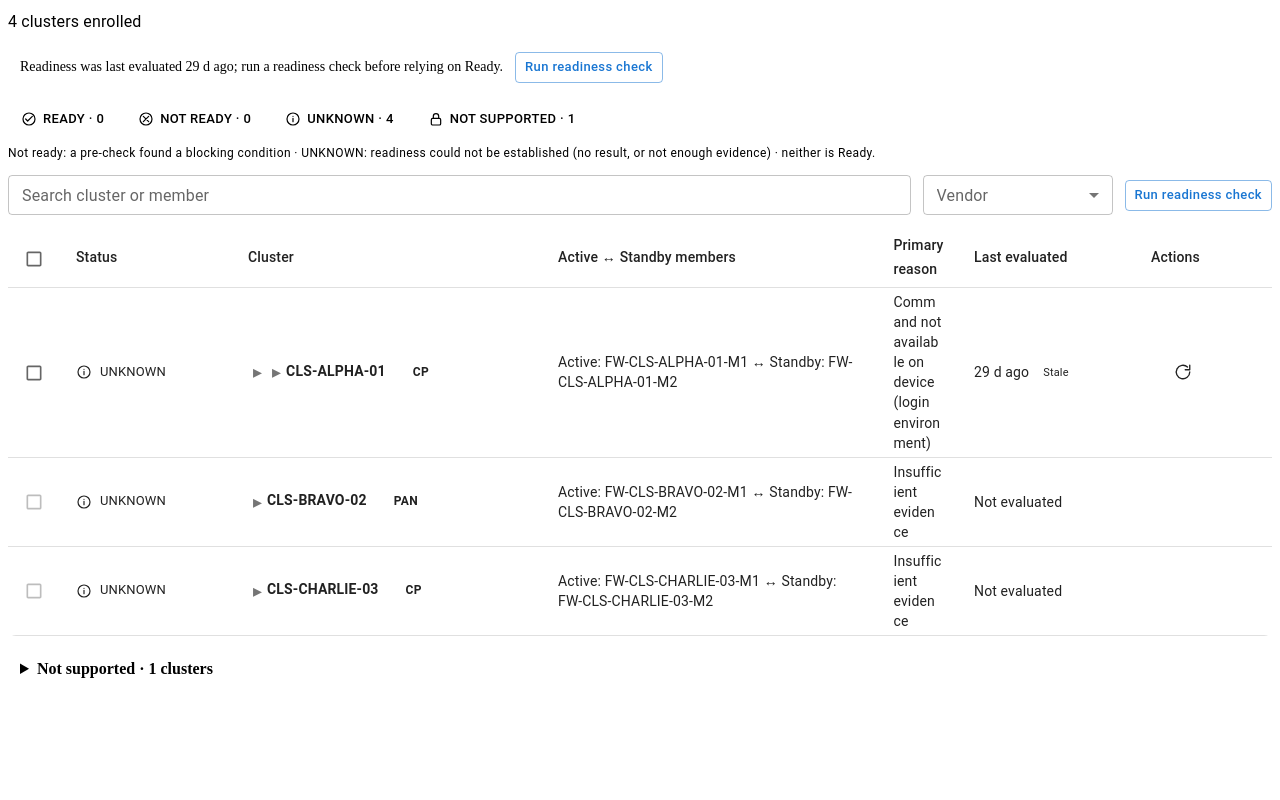
Test: shows the stored login-environment stop reason for unknown base and virtual units
expect the text "Command not available on device (login environment)" is shown: met, box 893,294 -> 942,450
Click the button named "Virtual systems in CLS-ALPHA-01".
click(276, 372)  # box 267,356 -> 286,388
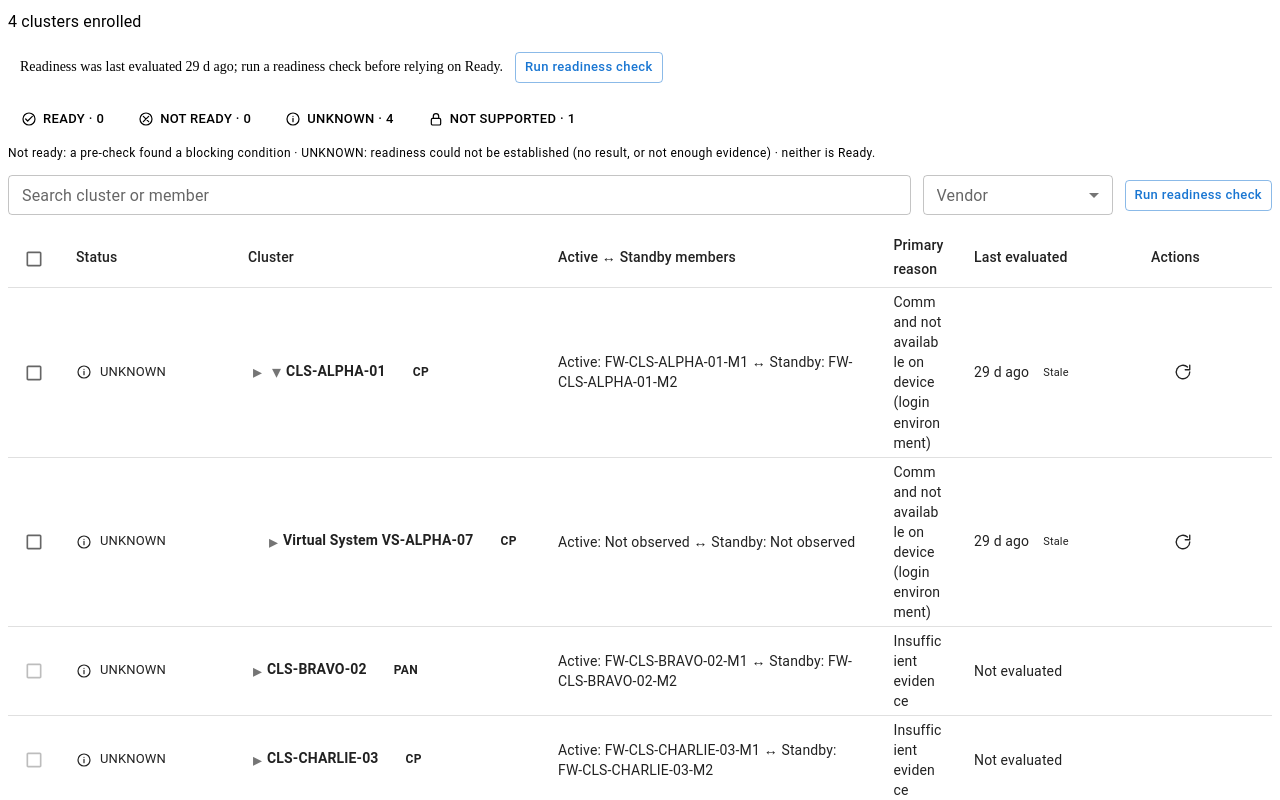
expect the text "Command not available on device (login environment)" in the row of "Virtual System VS-ALPHA-07" is shown: met, box 893,464 -> 942,620
